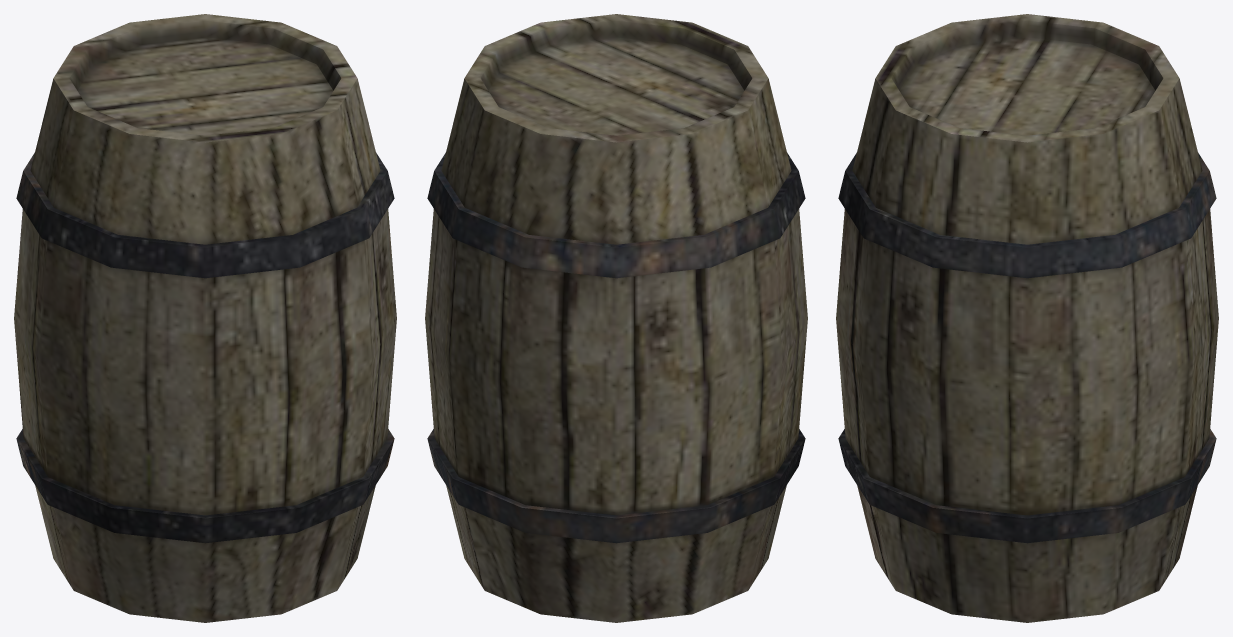
The model's file is WoodenBarrel.FBX.
3 views of the same model, side by side, from view 1: azimuth 30°, elevation 25°; view 2: azimuth 150°, elevation 25°; view 3: azimuth 270°, elevation 25° (orthographic).
Visible parts, largest first — view 1: WoodenBarrel; view 2: WoodenBarrel; view 3: WoodenBarrel.
Part boxes in pixels (<box>): WoodenBarrel: <box>14,14,396,622</box>; WoodenBarrel: <box>425,14,807,622</box>; WoodenBarrel: <box>836,14,1218,622</box>.
Size of the model in its own units: 63.64 by 88.09 by 63.64.
